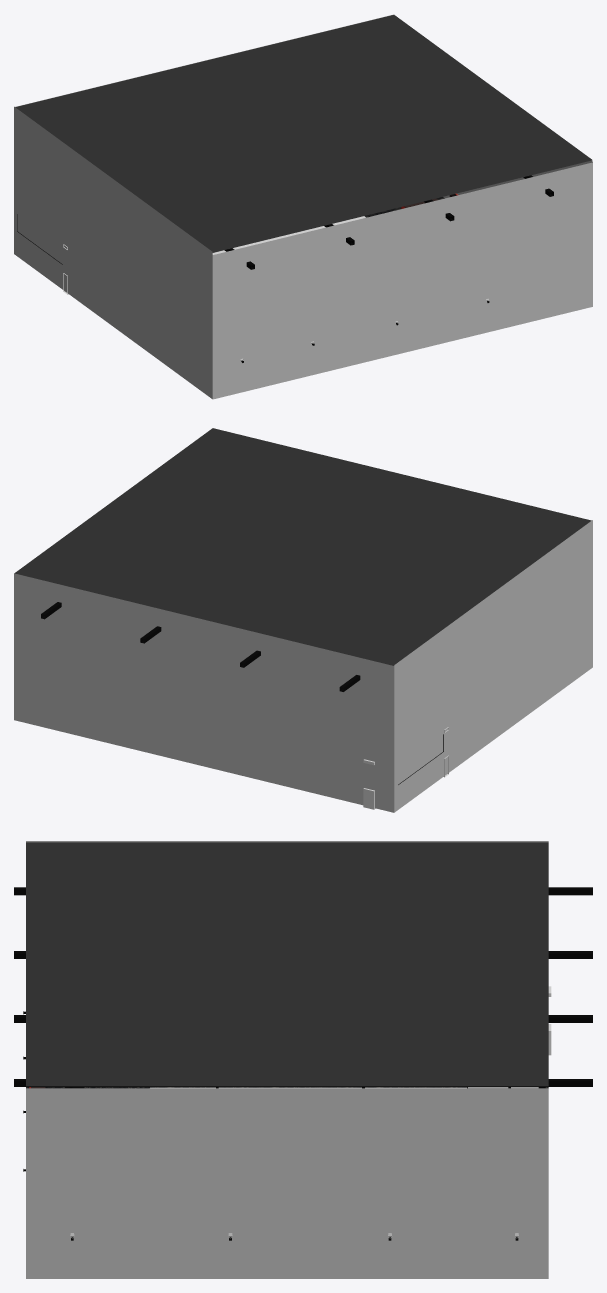
Rendered from uploads_files_3798056_disco.fbx.
3 views of the same model, one above another, from view 1: azimuth 30°, elevation 25°; view 2: azimuth 150°, elevation 25°; view 3: azimuth 270°, elevation 25° (orthographic). The views are drawn at different scales.
Visible parts, largest first — view 1: disco, ceiling; view 2: disco, ceiling, Cube.001; view 3: ceiling, disco, Cube.001, Plane.001.
Part boxes in pixels (x1,y1,x2,y2): disco: (14, 14, 592, 399); ceiling: (15, 15, 592, 252); disco: (14, 520, 592, 812); ceiling: (14, 428, 591, 665); Cube.001: (41, 602, 360, 691); ceiling: (26, 842, 548, 1086); disco: (26, 841, 548, 1278); Cube.001: (14, 887, 592, 1088); Plane.001: (150, 1087, 466, 1088).
Size of the model in its own units: 2365 by 877 by 2357.
